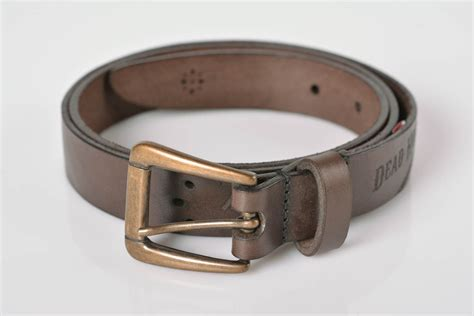cuero: (61, 38, 415, 259)
